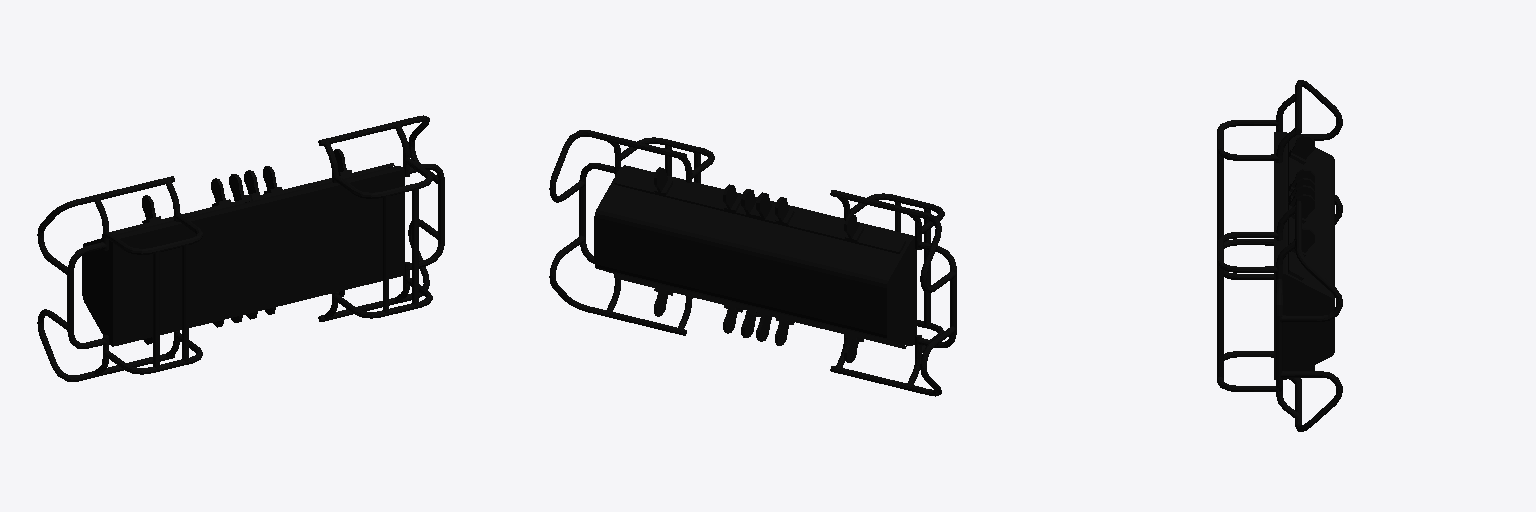
Rendered from trunk.obj.
3 views of the same model, side by side, from view 1: azimuth 30°, elevation 25°; view 2: azimuth 150°, elevation 25°; view 3: azimuth 270°, elevation 25° (orthographic).
Bounding box in the file's own units: 1.29 × 0.5954 × 0.3737.